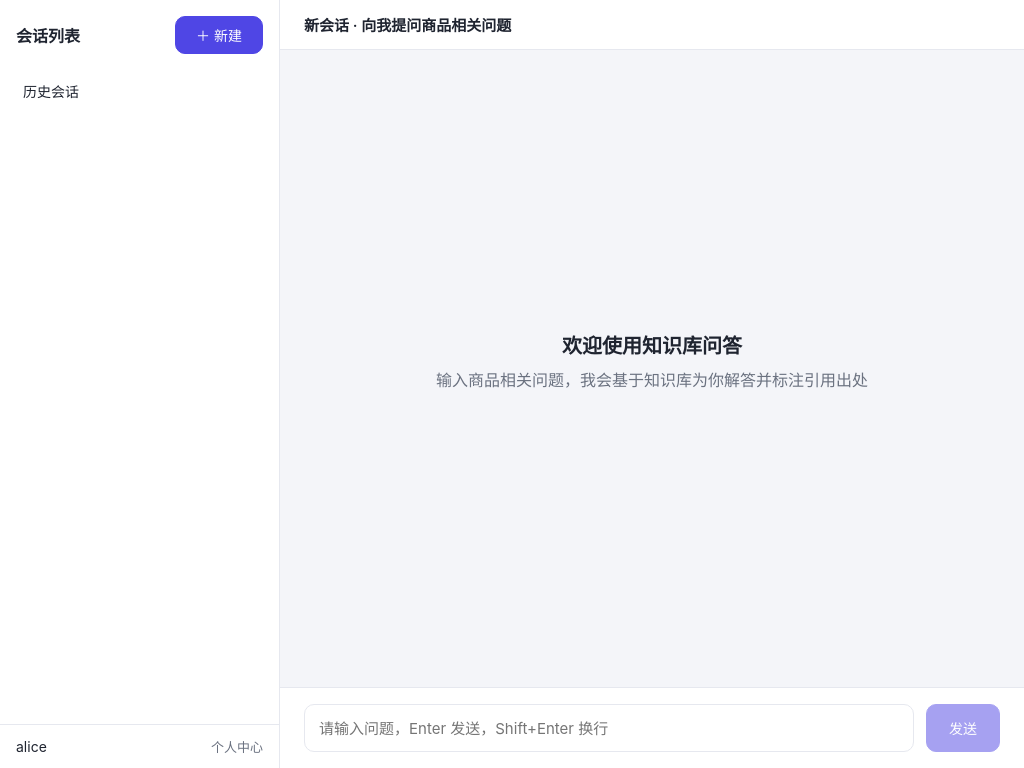
Test: ChatPage 会话切换 › 点击「新建」清空当前消息
Click the text "历史会话" at (51, 92), box [23, 83, 79, 100]
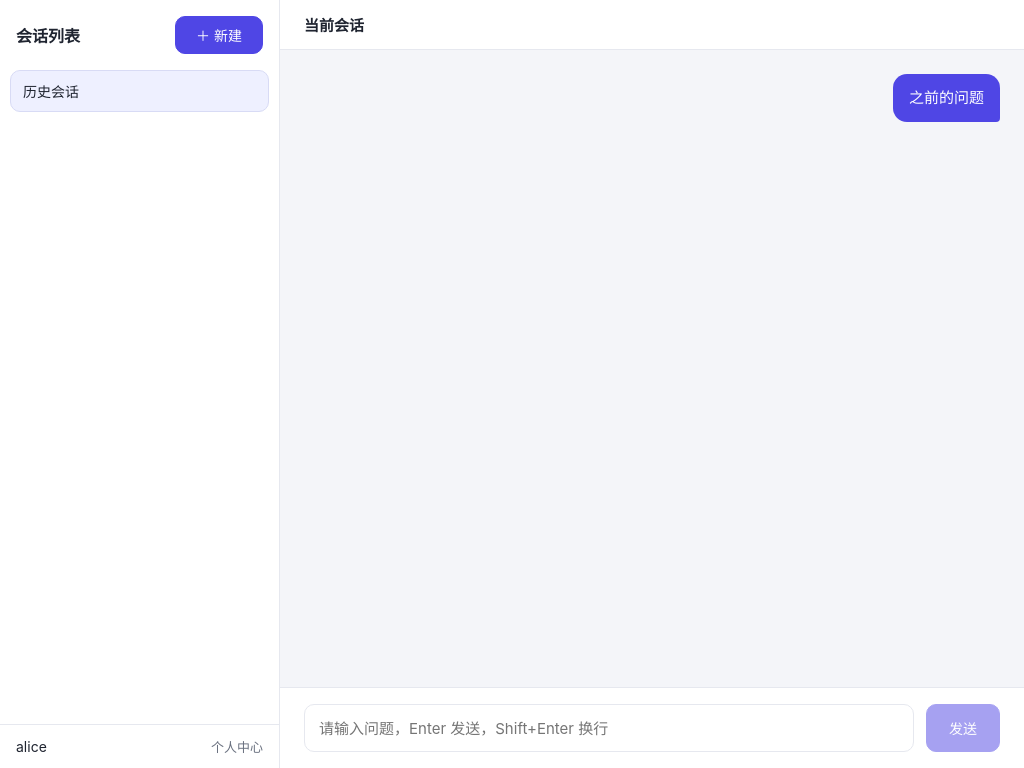
Result: the text "之前的问题" is shown at [893, 74, 1000, 122]
Click the button "＋ 新建" at (219, 35), box [175, 16, 263, 54]
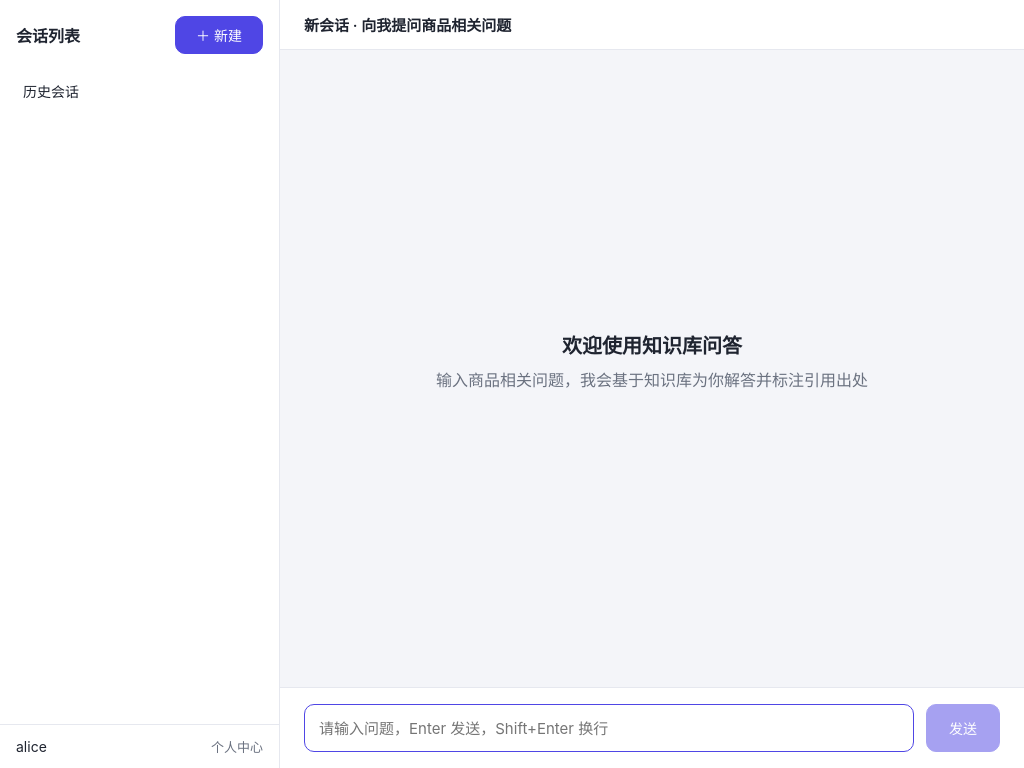
Result: the text "之前的问题" is gone
Result: the heading "欢迎使用知识库问答" is shown at [562, 330, 742, 359]
